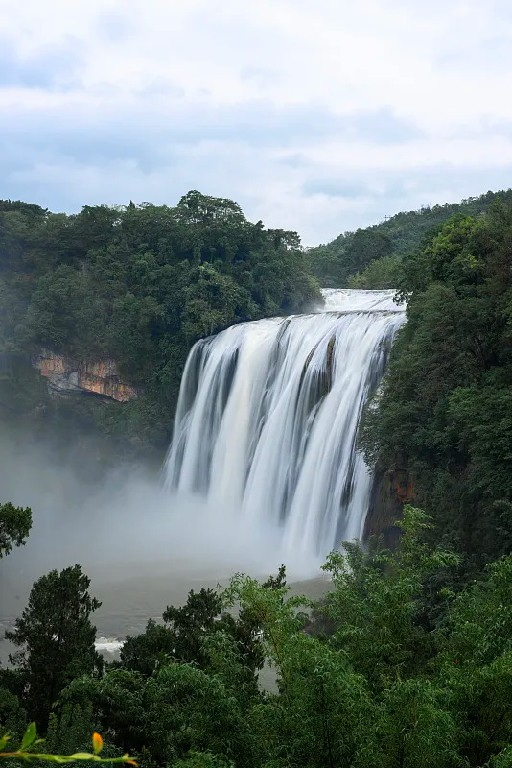Huangguoshu: (166, 289, 408, 567)
